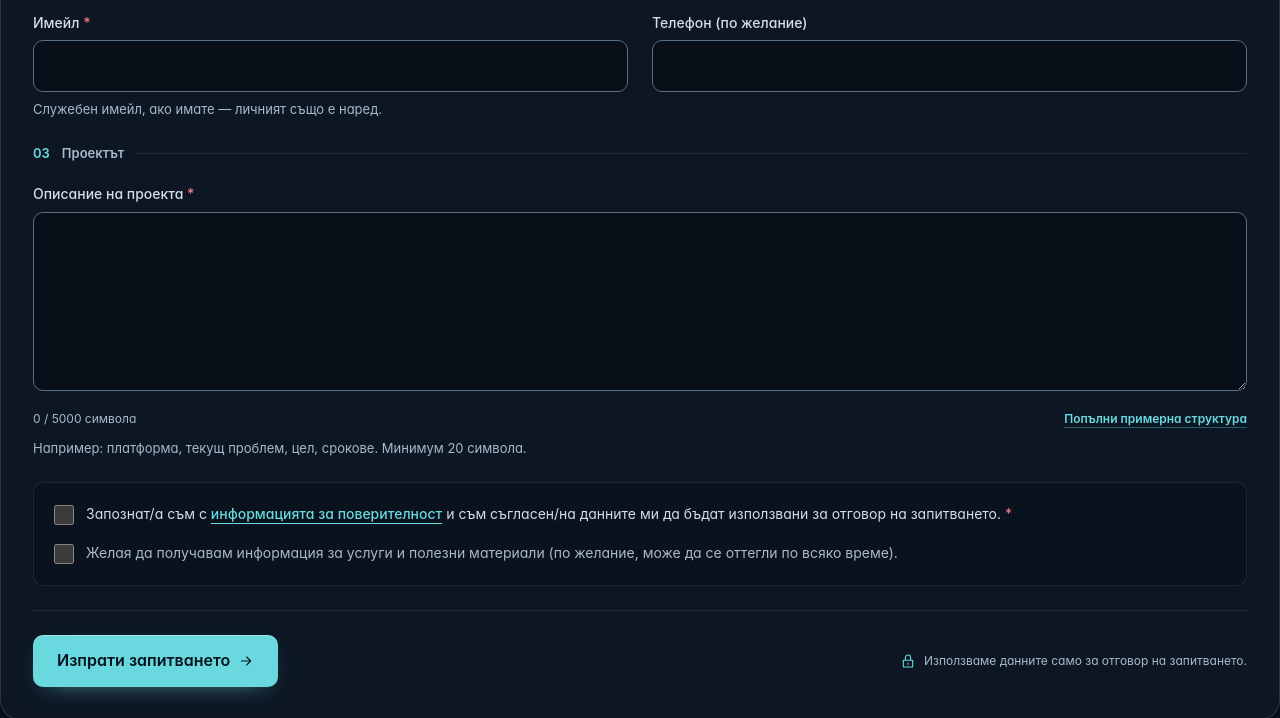
Scenario: ContactForm › shows validation errors and does not submit an empty form
(page scrolled)
Click the button "Изпрати запитването" at (156, 661), box [33,635,278,687]
(page scrolled)
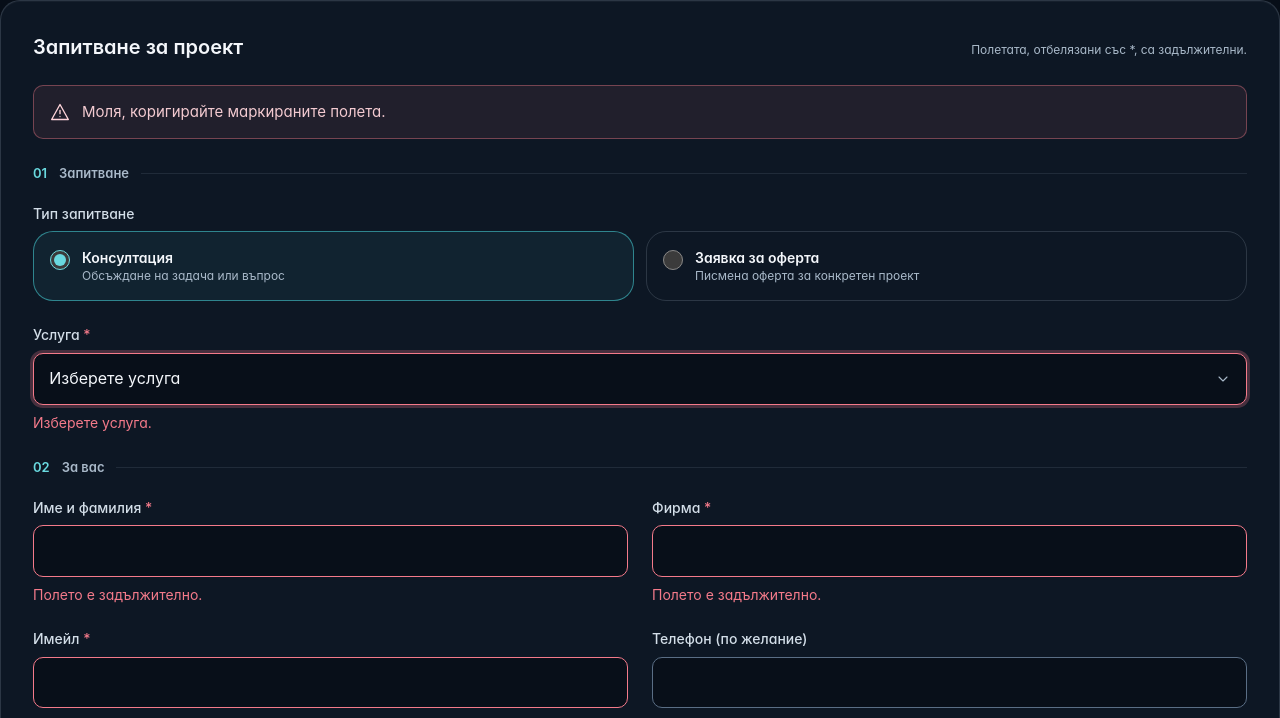
Now the text "Моля, коригирайте маркираните полета." is shown, box [82,100,386,124]
Now the text "Изберете услуга." is shown, box [33,414,152,431]
